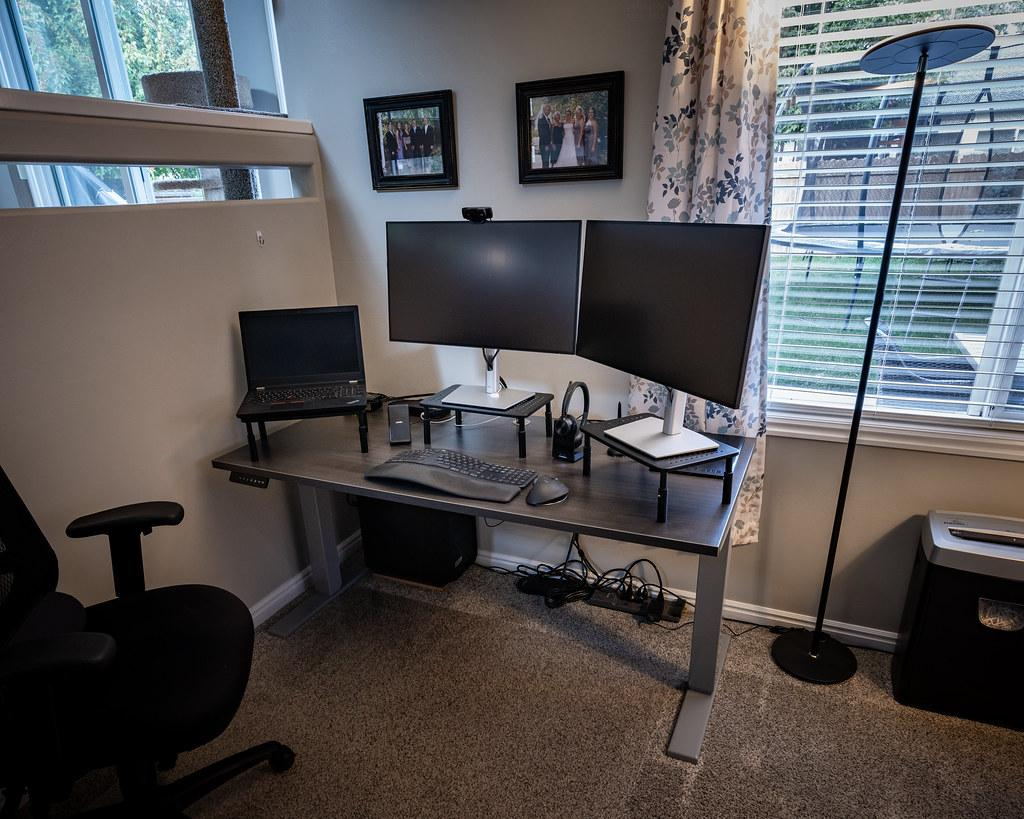computer: (575, 218, 772, 466), (385, 219, 583, 415), (236, 304, 368, 420)
